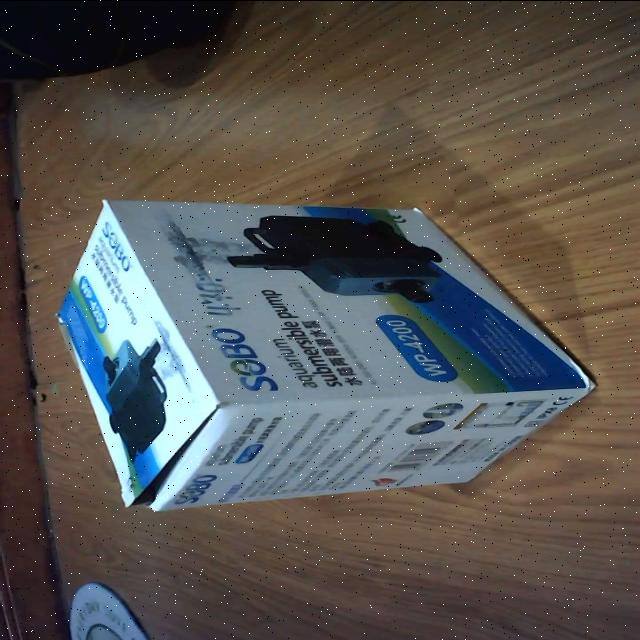SOBO_WP_4200: (42, 192, 602, 516)
